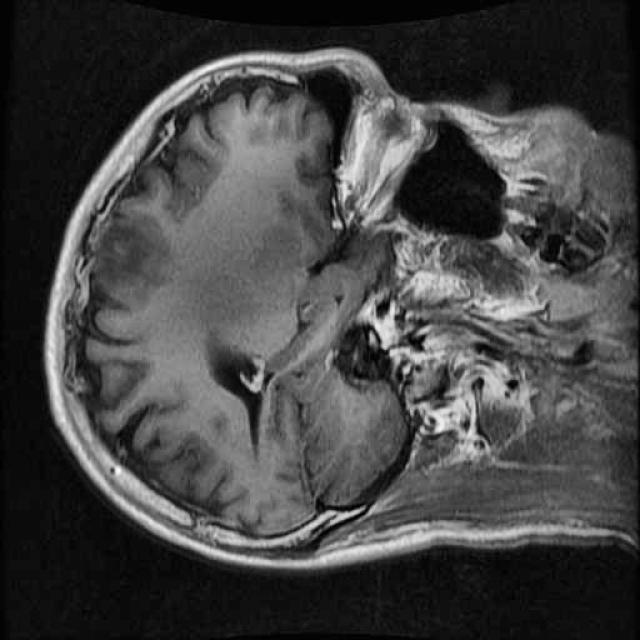Non-Tumor: (80, 189, 193, 321)
